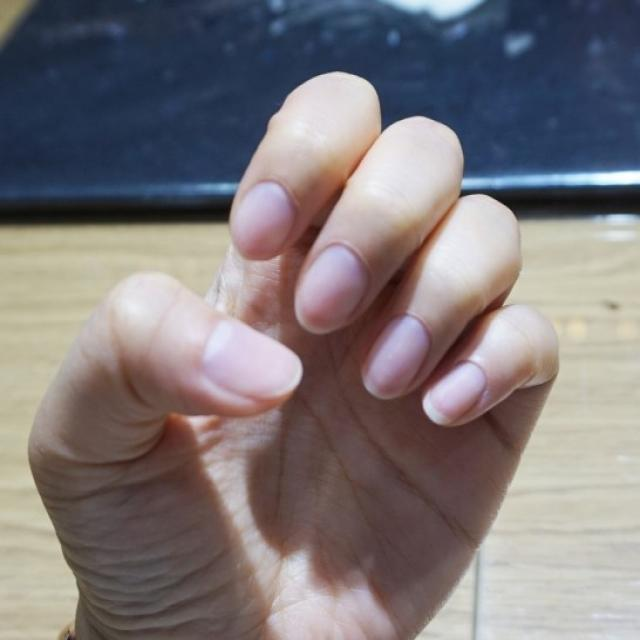Nail: (201, 320, 301, 401), (295, 244, 370, 332), (362, 315, 430, 397), (231, 181, 298, 259), (424, 363, 486, 425)
